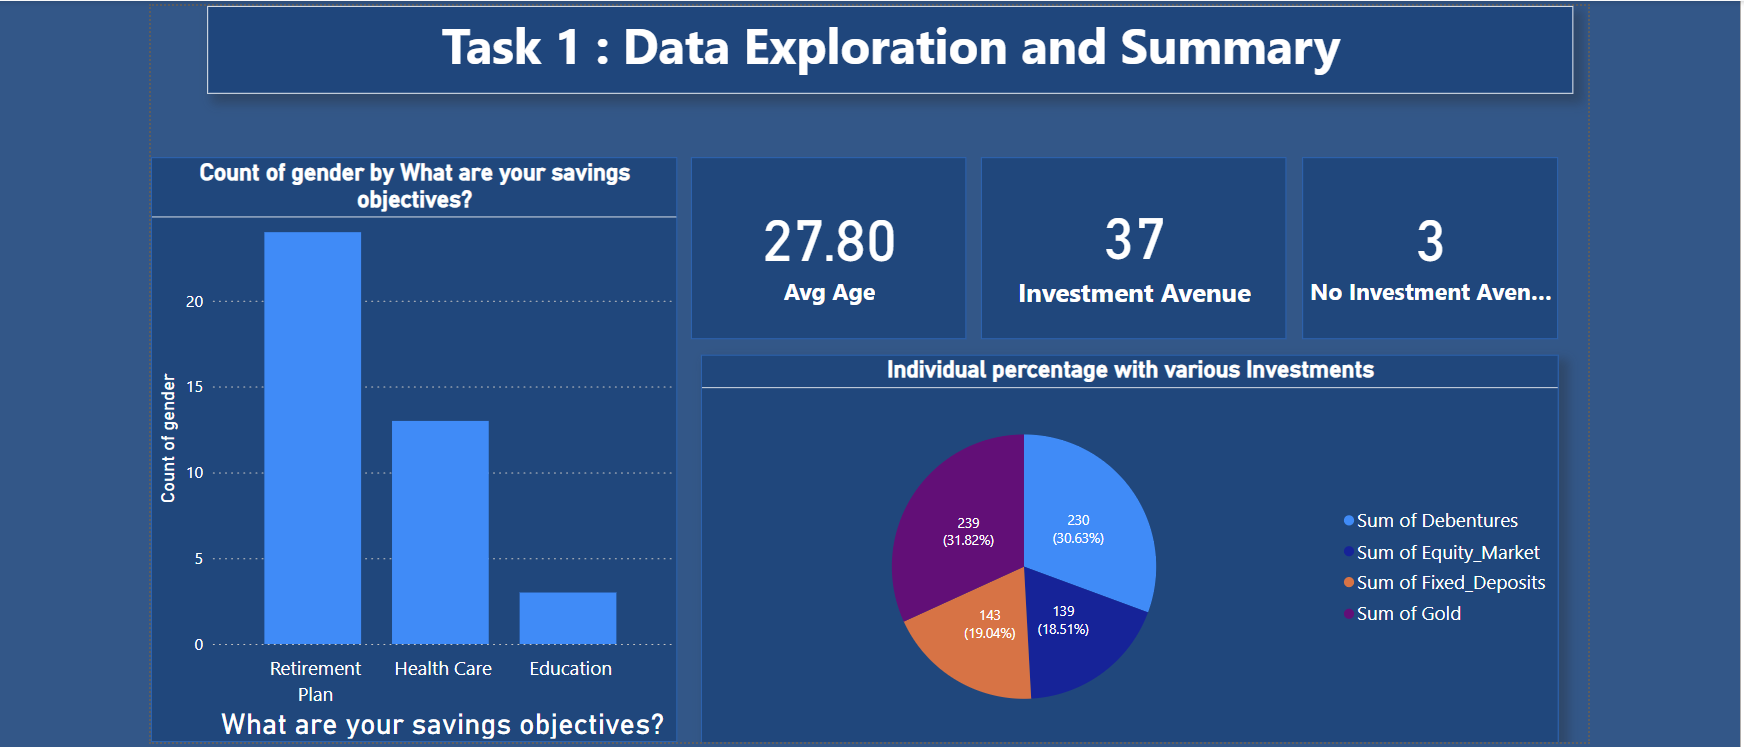

The page's visual inventory and layout, read from the dashboard file:
{"tool":"powerbi","page":{"name":"TASK1","canvas":[1416,725],"ordinal":0},"visuals":[{"type":"textbox","box":[55.3,0,1345.5,86.2],"z":0},{"type":"columnChart","fields":{"Category":["Data_set 2.What are your savings objectives?"],"Y":["CountNonNull(Data_set 2.gender)"]},"box":[0,149.2,518.4,576.3],"z":2000},{"type":"card","fields":{"Values":["Data_set 2.Investment Avenue"]},"box":[818.1,149.2,301,178.8],"z":3000},{"type":"card","fields":{"Values":["Data_set 2.No Investment Avenue"]},"box":[1134.6,149.2,252.1,178.8],"z":4000},{"type":"card","fields":{"Values":["Data_set 2.Avg Age"]},"box":[532.5,149.2,271.4,178.8],"z":5000},{"type":"pieChart","title":"Individual percentage with various Investments","fields":{"Y":["Sum(Data_set 2.Debentures)","Sum(Data_set 2.Equity_Market)","Sum(Data_set 2.Fixed_Deposits)","Sum(Data_set 2.Gold)"]},"box":[541.5,343.5,845.1,382],"z":7000}]}

Visuals, with their boxes on the page's 1416x725 design canvas (x1, y1, x2, y2). These are canvas units, not pixel positions in the 1744x747 screenshot, which may show the page scaled, cropped or inside an application window:
textbox: select_region(55, 0, 1401, 86)
columnChart - Data_set 2.What are your savings objectives? x CountNonNull(Data_set 2.gender): select_region(0, 149, 518, 726)
card - Data_set 2.Investment Avenue: select_region(818, 149, 1119, 328)
card - Data_set 2.No Investment Avenue: select_region(1135, 149, 1387, 328)
card - Data_set 2.Avg Age: select_region(532, 149, 804, 328)
"Individual percentage with various Investments" pieChart: select_region(542, 344, 1387, 726)
